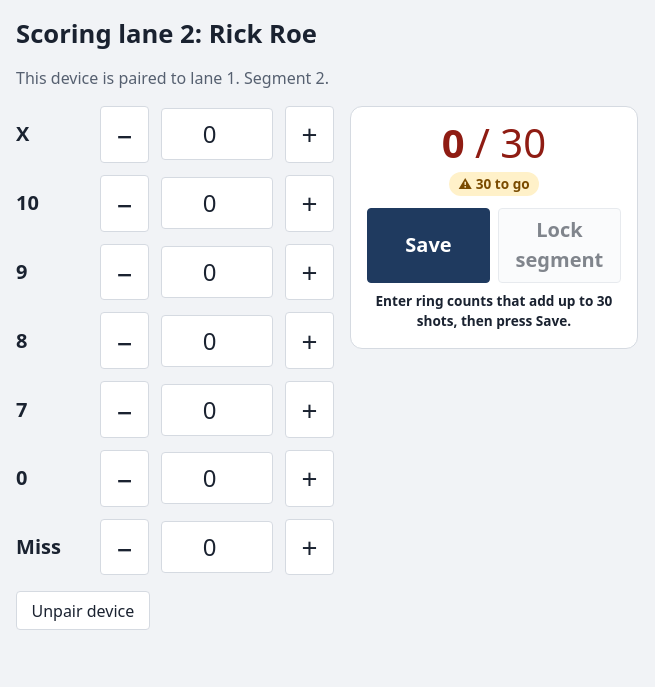
Test case: Scorer › shows a notice and resets the counts when the score lane changes
Click the button named "Increase X": (309, 134) [285,106,334,163]
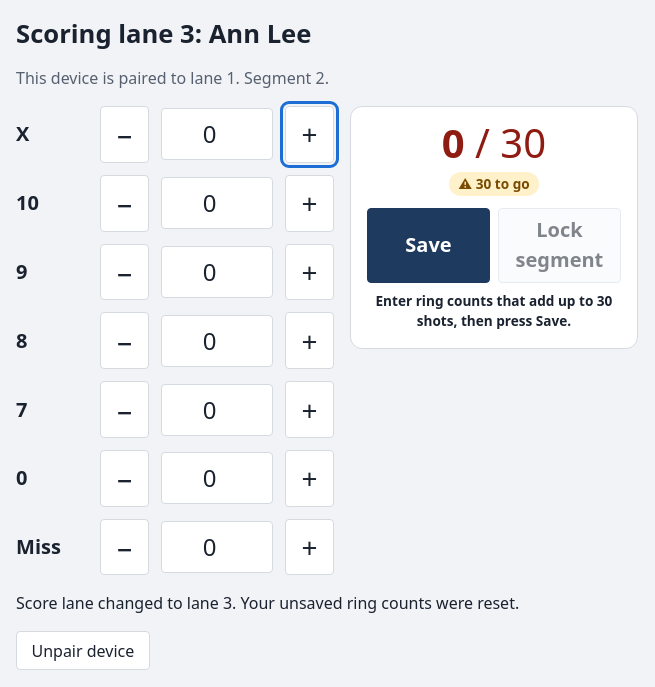
expect the number field named "X count" holds "0": met, box [161,108,273,160]
expect the heading "Scoring lane 3: Ann Lee" is shown: met, box [16,16,311,51]
expect the message shows "Score lane changed to lane 3": met, box [16,592,519,614]
